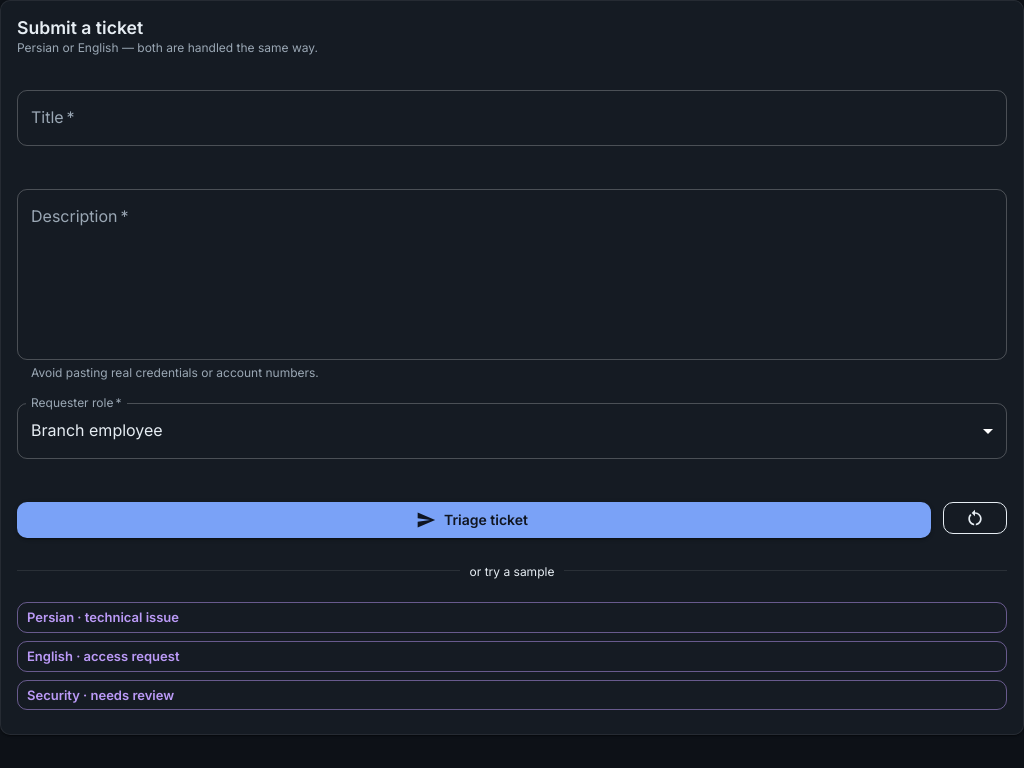
Test case: TicketForm › clears the form on reset
The width and height of the screenshot is (1024, 768).
Type "Something" into the field labelled "Title *" at x=512, y=118, box 17,90 -> 1007,146
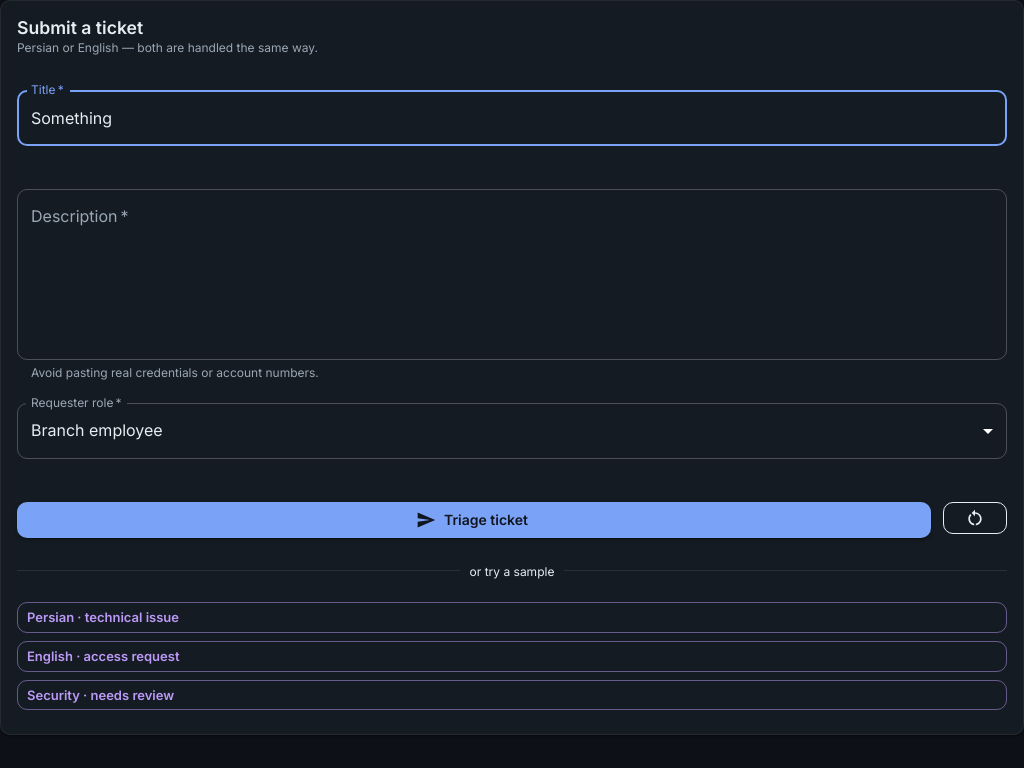
Click the button named "clear the form" at x=975, y=518, box 943,502 -> 1007,534
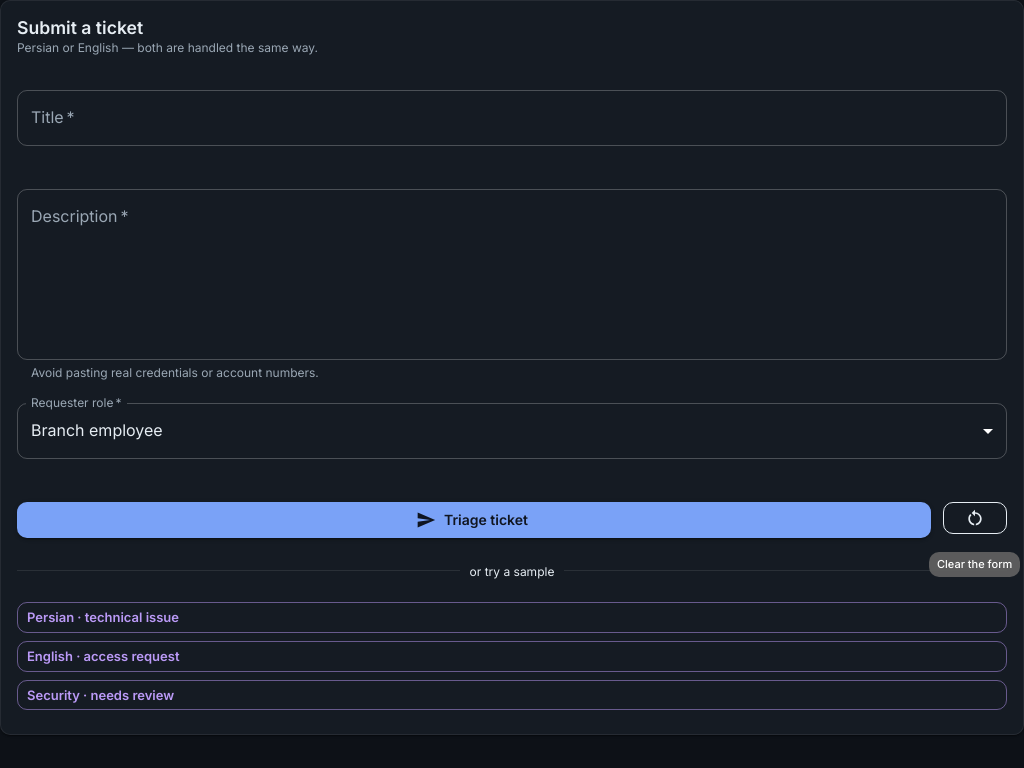
Expected: the field labelled "Title *" is empty, 17,90 -> 1007,146
